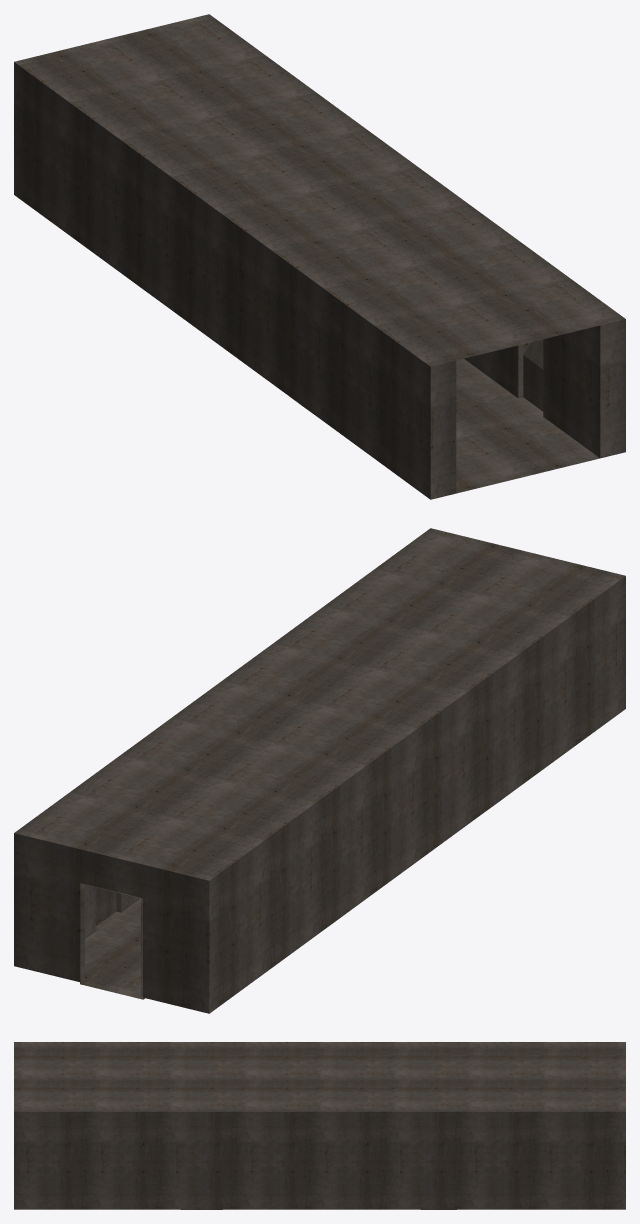
Rendered from HallwayShort_NDoorType_A_SDoorType_OPEN_Short.glb.
3 views of the same model, one above another, from view 1: azimuth 30°, elevation 25°; view 2: azimuth 150°, elevation 25°; view 3: azimuth 270°, elevation 25° (orthographic). The views are drawn at different scales.
Parts seen in each view (by area): view 1: geo_0; view 2: geo_0; view 3: geo_0.
Part boxes in pixels (left/top/right/bottom): geo_0: left=14, top=14, right=625, bottom=499; geo_0: left=14, top=528, right=625, bottom=1013; geo_0: left=14, top=1042, right=625, bottom=1209.
Bounding box in the file's own units: 15.4 × 10.18 × 56.89.
2 materials, 2 textured.
